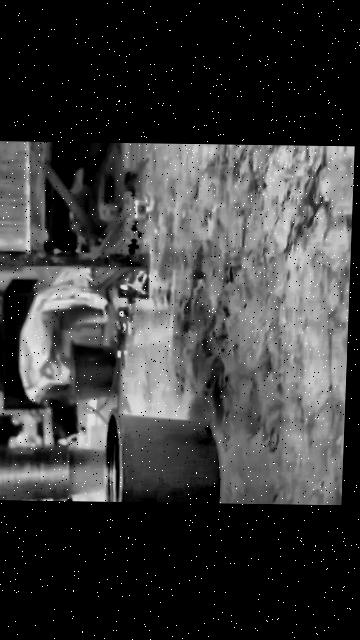pot: (102, 412, 223, 504)
